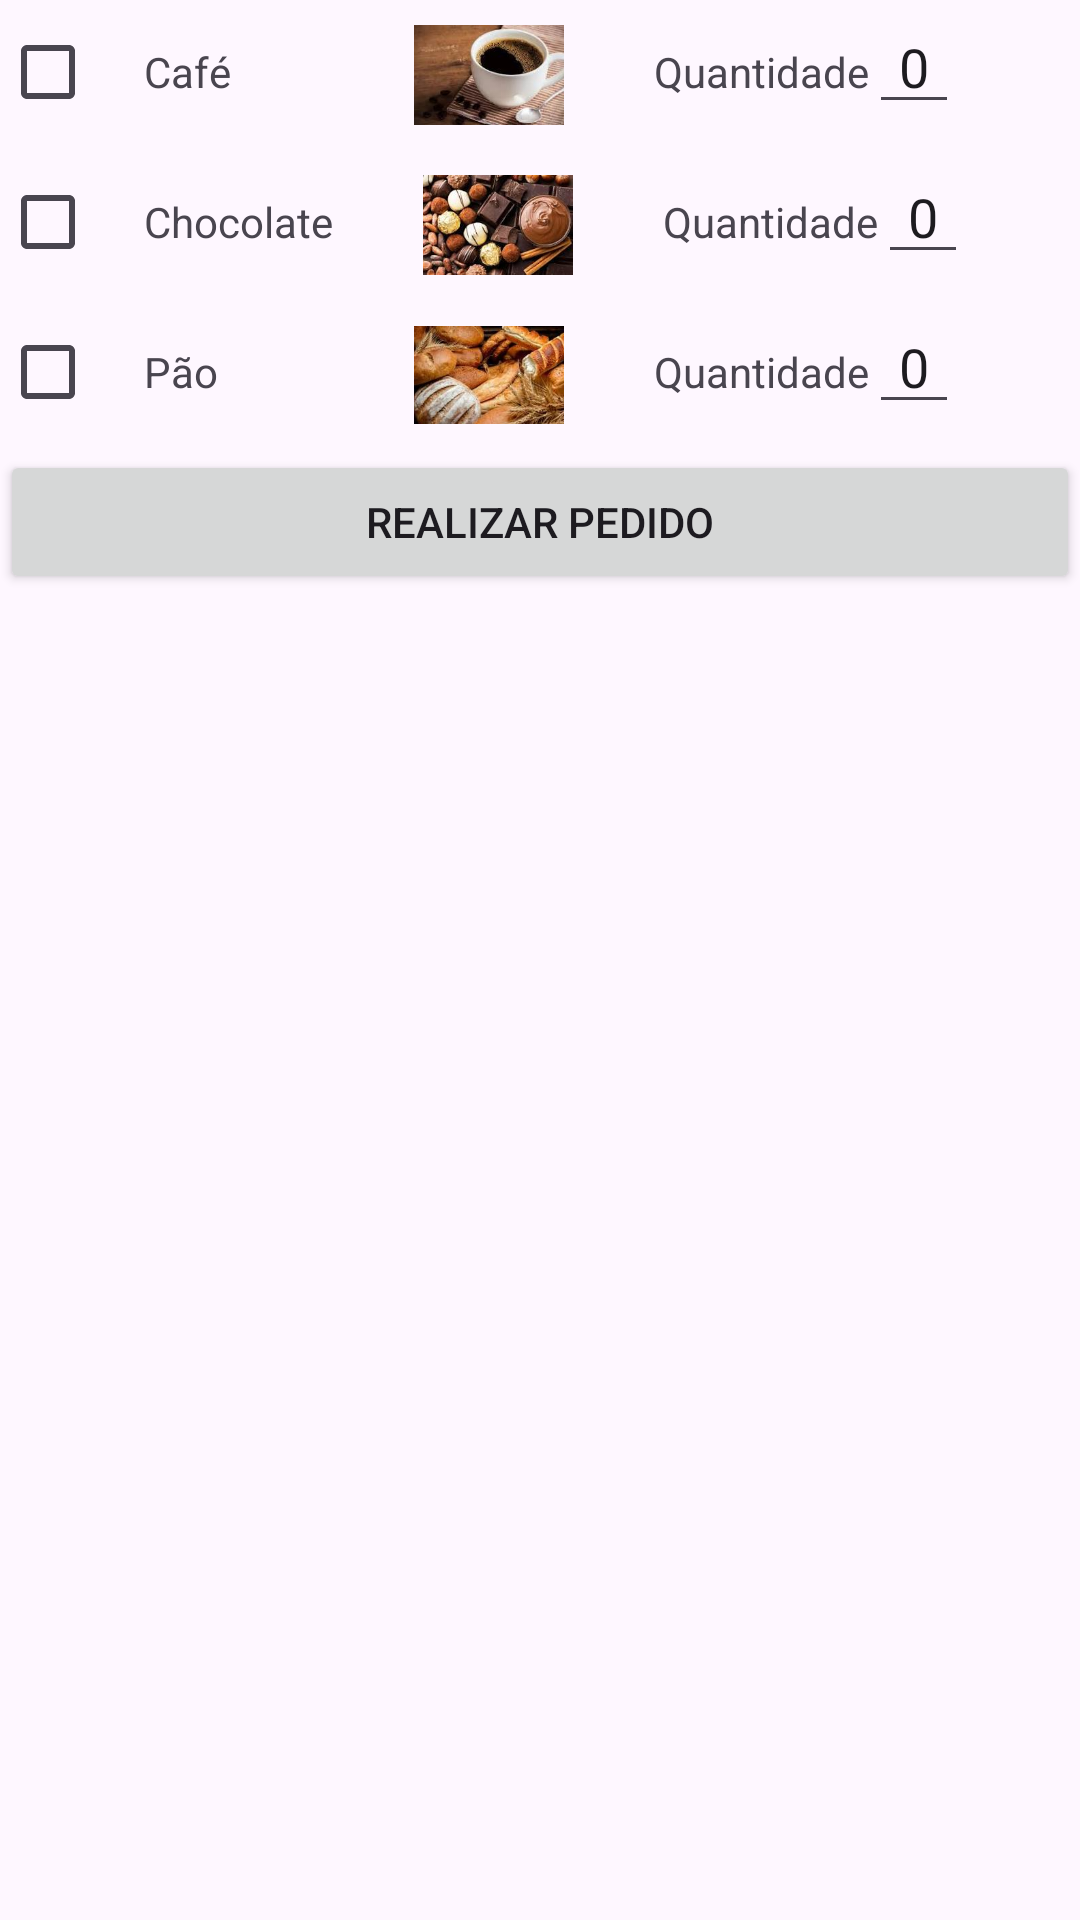

Icon bounding boxes for this 1080px x 1920px phone screenshot, format (left=x1, top=y1, right=x2, bottom=y2):
cafe: (left=414, top=25, right=564, bottom=125)
pao: (left=414, top=326, right=564, bottom=424)
